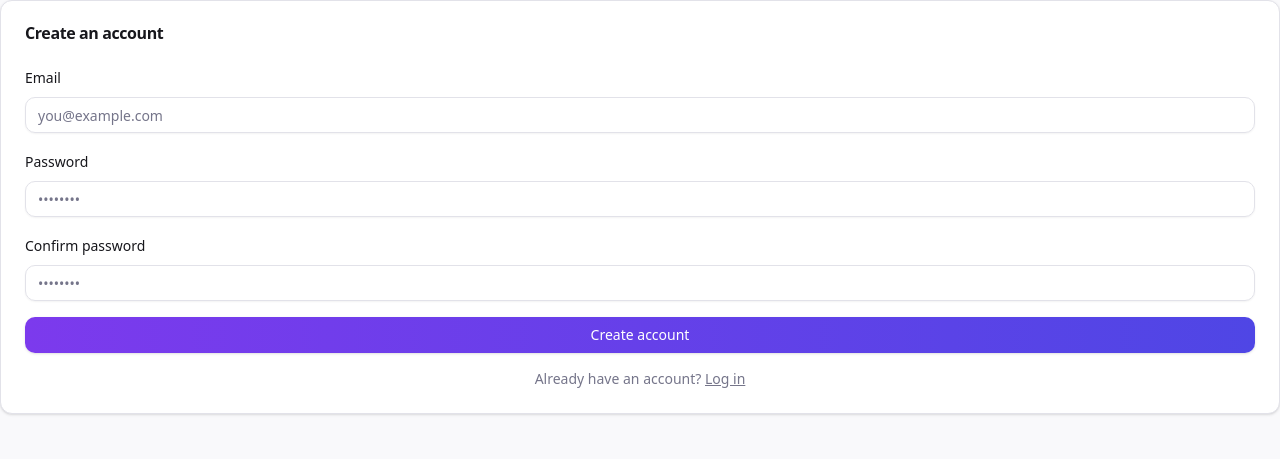
Test: RegisterForm › shows password mismatch error
Type "a@b.com" into the field with test id "register-form-email-input" at (640, 115), box [25,97,1255,133]
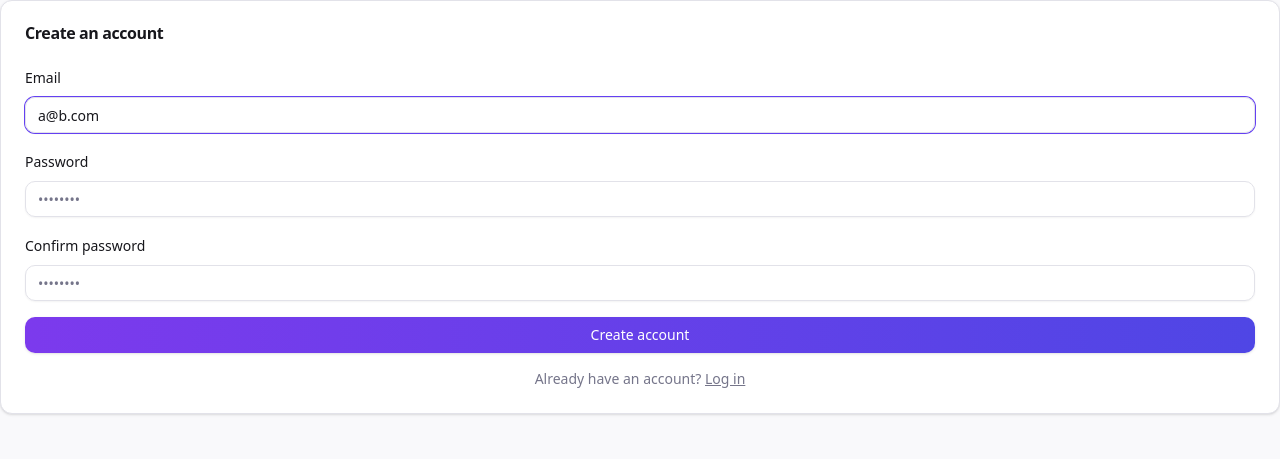
Type "Password1" into the password field with test id "register-form-password-input" at (640, 199), box [25,181,1255,217]
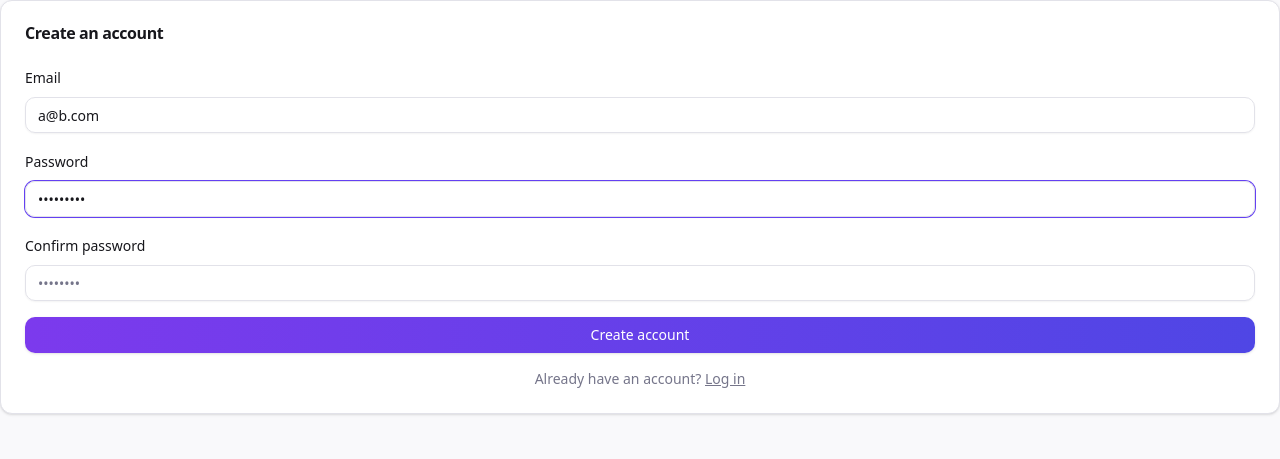
Type "Different1" into the password field with test id "register-form-confirm-password-input" at (640, 283), box [25,265,1255,301]
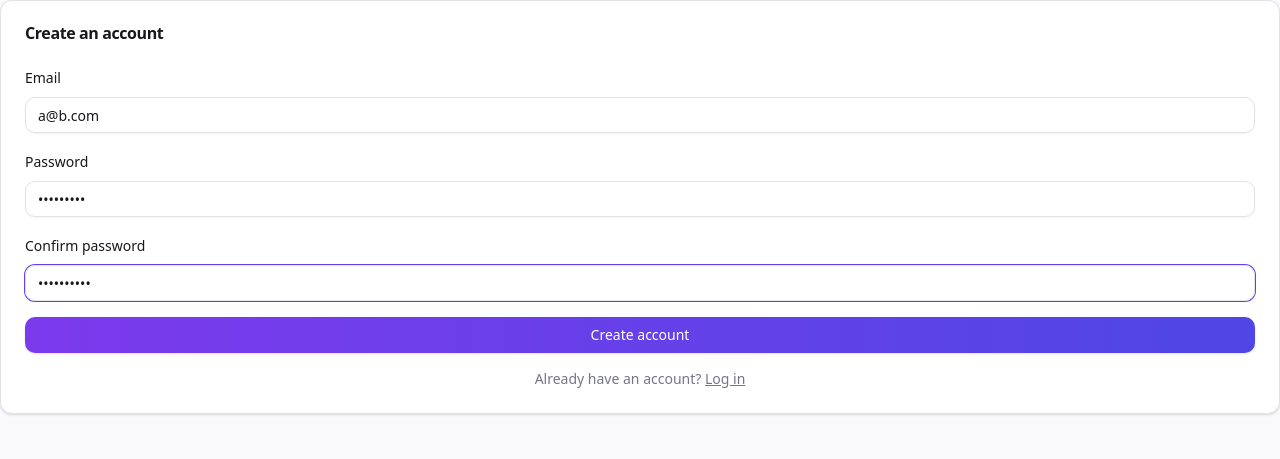
Click the button with test id "register-form-submit-button" at (640, 335), box [25,317,1255,353]
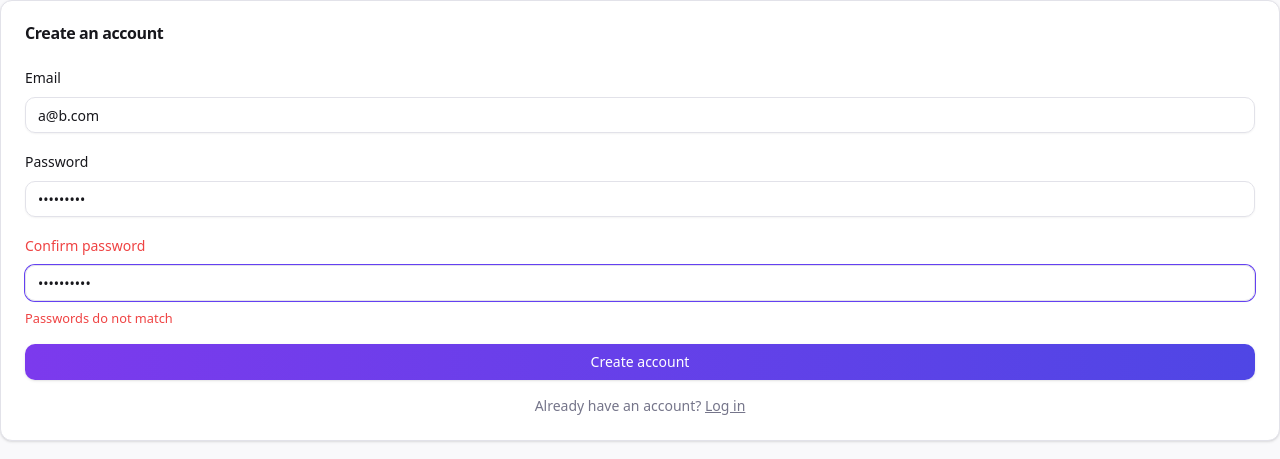
Result: the text "Passwords do not match" is shown at [25,309,173,327]
